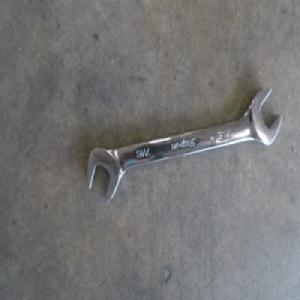Wrench: (88, 83, 280, 199)
